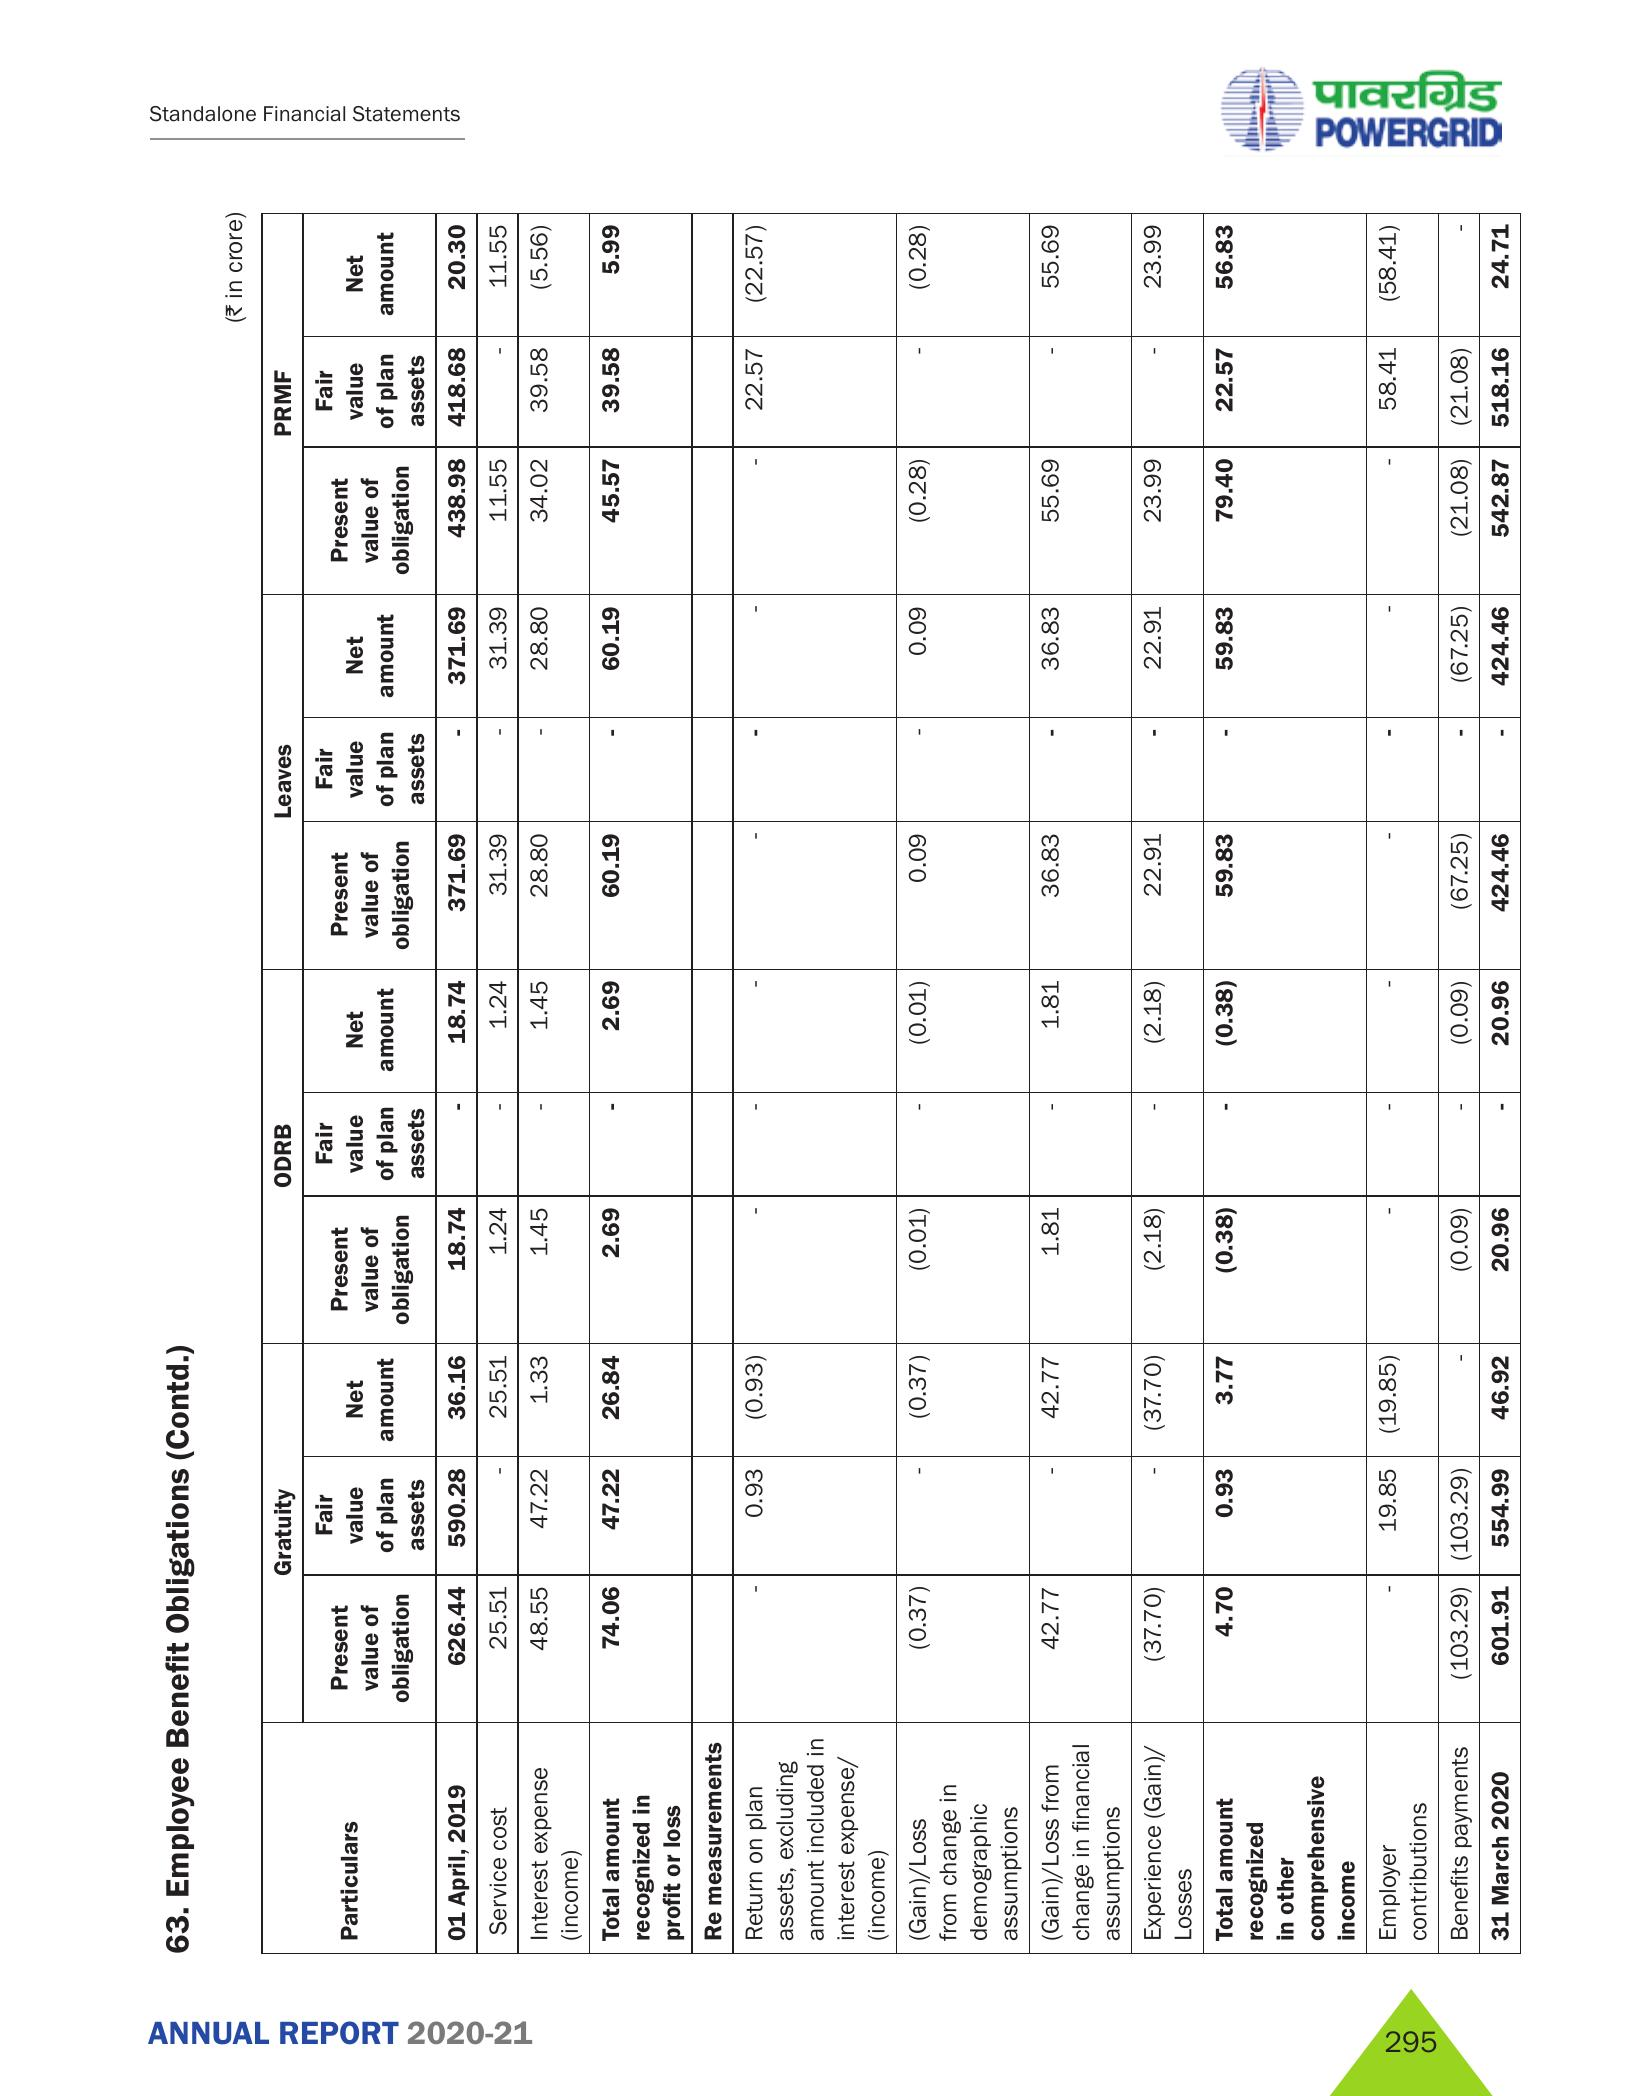Footer: (0, 1965, 1650, 2096)
Header: (0, 0, 1650, 172)
Table: (208, 218, 1568, 1974)
